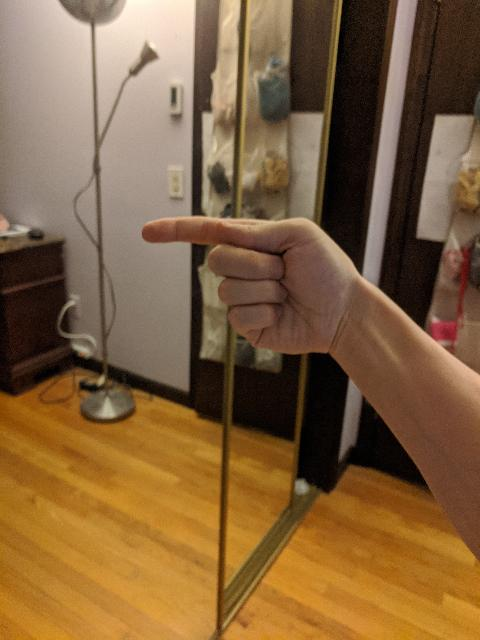G: (136, 210, 350, 362)
